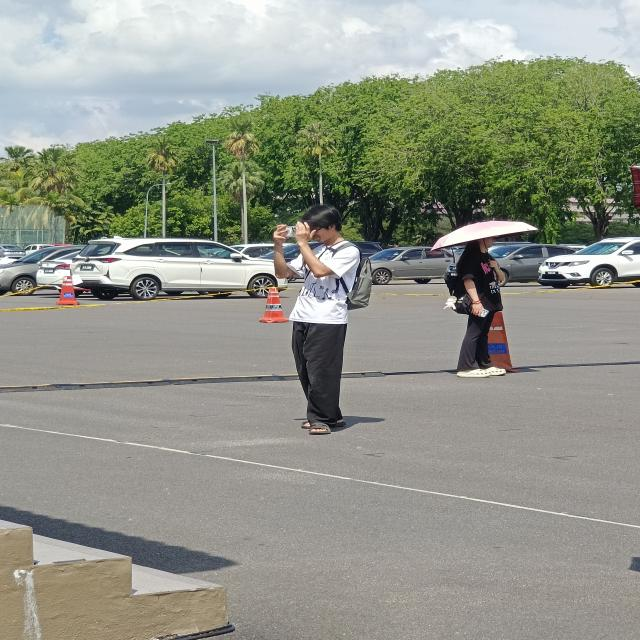person_without_labcoat: (273, 204, 361, 434), (454, 237, 505, 377)
